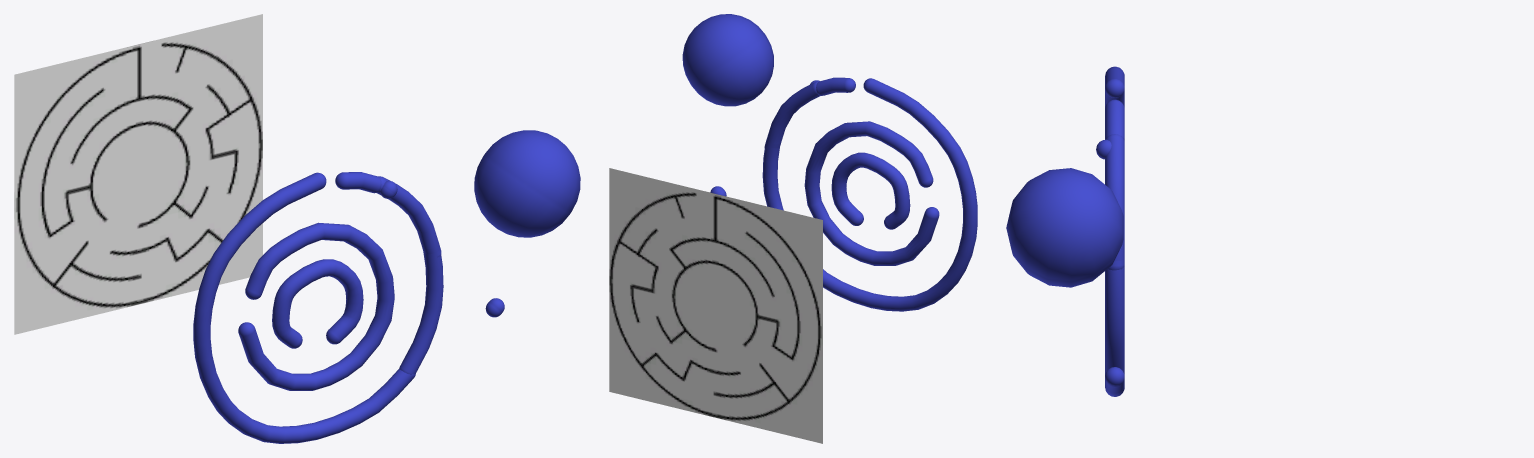
The model's file is concCircles.fbx.
The picture shows the model from 3 angles, left to right: view 1: azimuth 30°, elevation 25°; view 2: azimuth 150°, elevation 25°; view 3: azimuth 270°, elevation 25°; orthographic projection. The views are drawn at different scales.
Visible parts, largest first — view 1: root, node_id39 (×6); view 2: root, node_id39 (×6); view 3: node_id39 (×4).
Boxes of the visible parts, x1,y1,x2,y2 form: root: [14, 14, 262, 334]; node_id39 (×6): [193, 130, 580, 443]; root: [609, 168, 822, 443]; node_id39 (×6): [682, 14, 977, 311]; node_id39 (×4): [1006, 66, 1124, 396].
Size of the model in its own units: 0.236 by 0.1726 by 0.26.
Materials: 10 (1 with a texture image).
